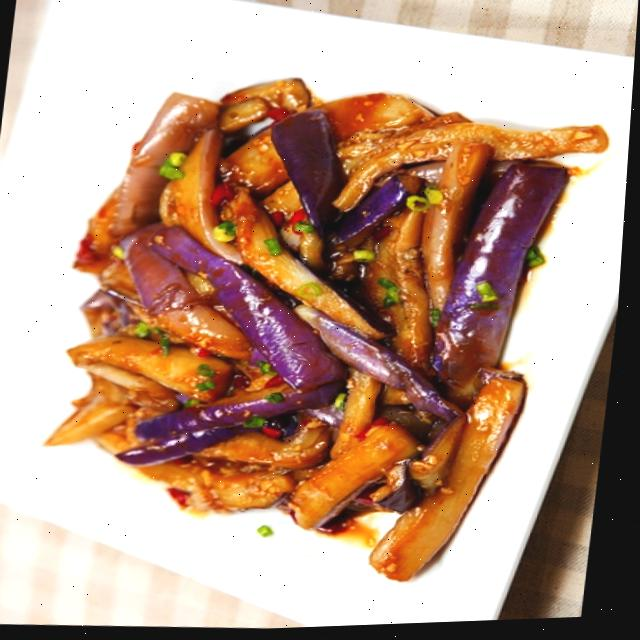鸡蛋料理: (26, 32, 607, 600)
